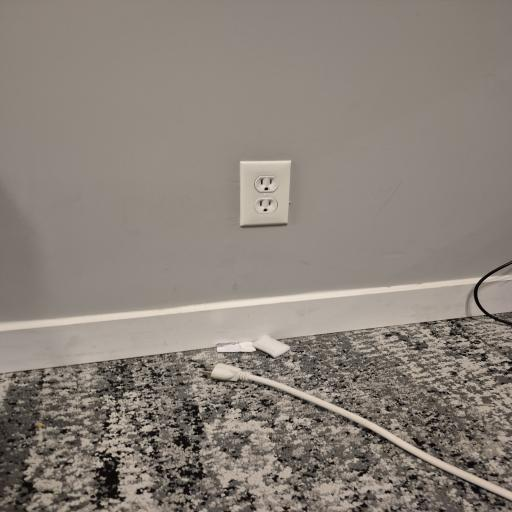outlet: (241, 160, 290, 220)
